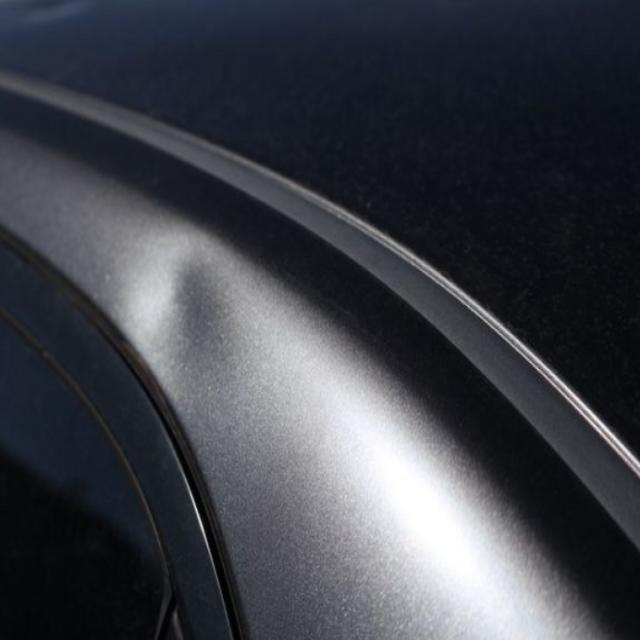dents: (150, 238, 268, 437)
